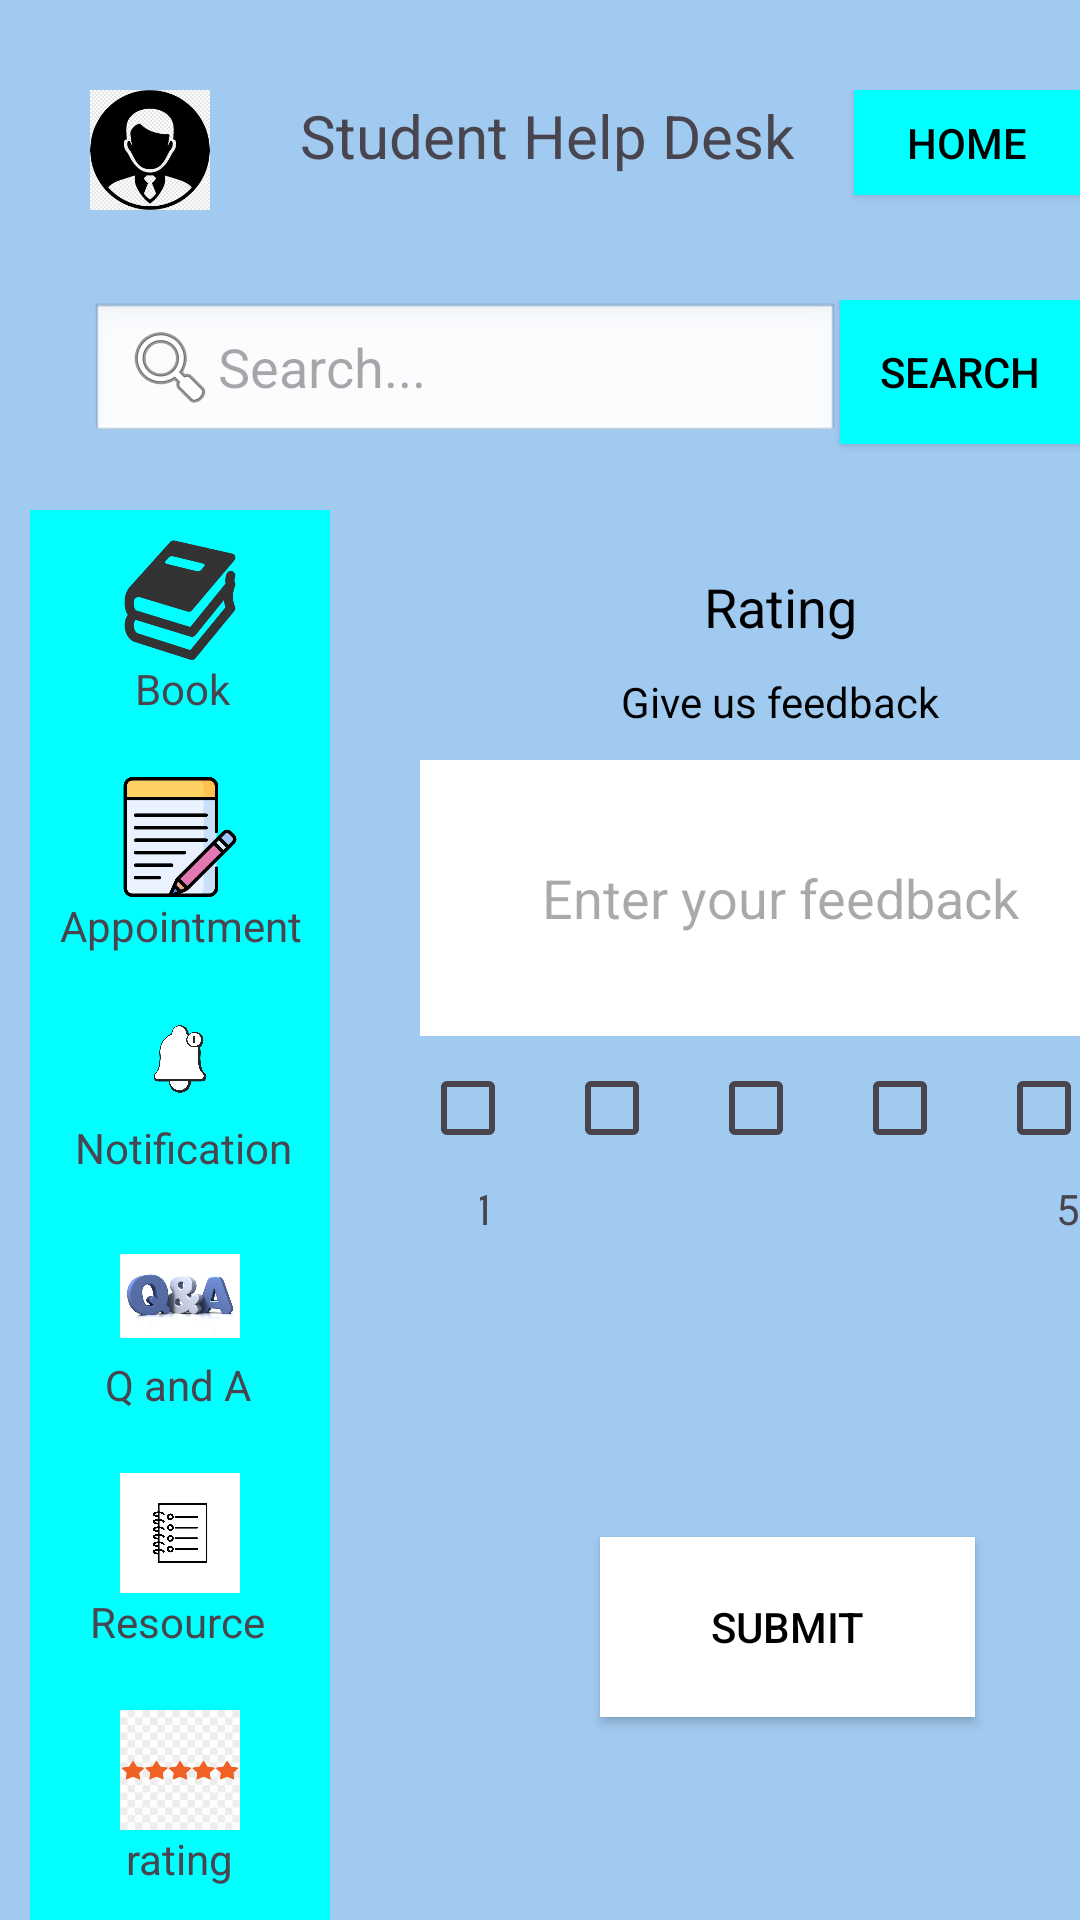

Icons on this 1080px x 1920px Android screen, each with its box as [left=x1, top=y1, right=x2, bottom=y2]:
profile: [left=90, top=90, right=210, bottom=210]
